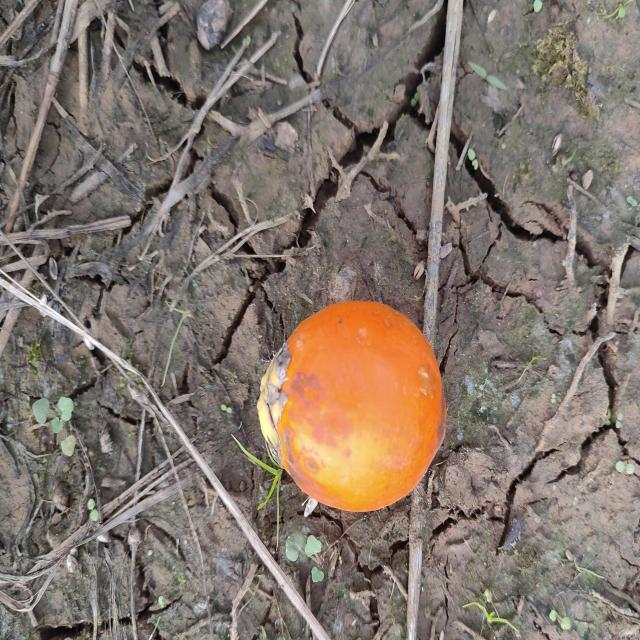good: (259, 301, 446, 516)
